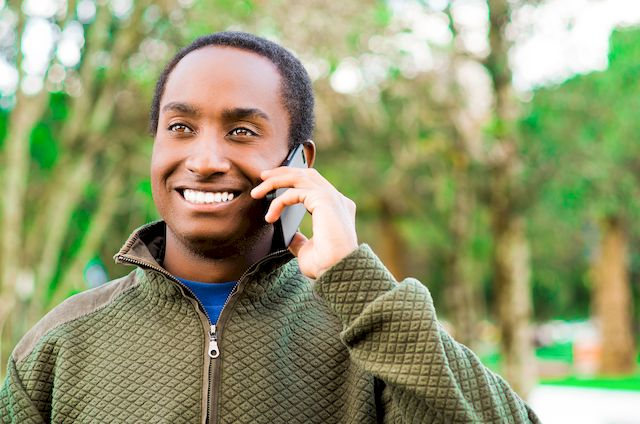phone: (268, 150, 323, 240)
talk: (150, 94, 357, 278)
